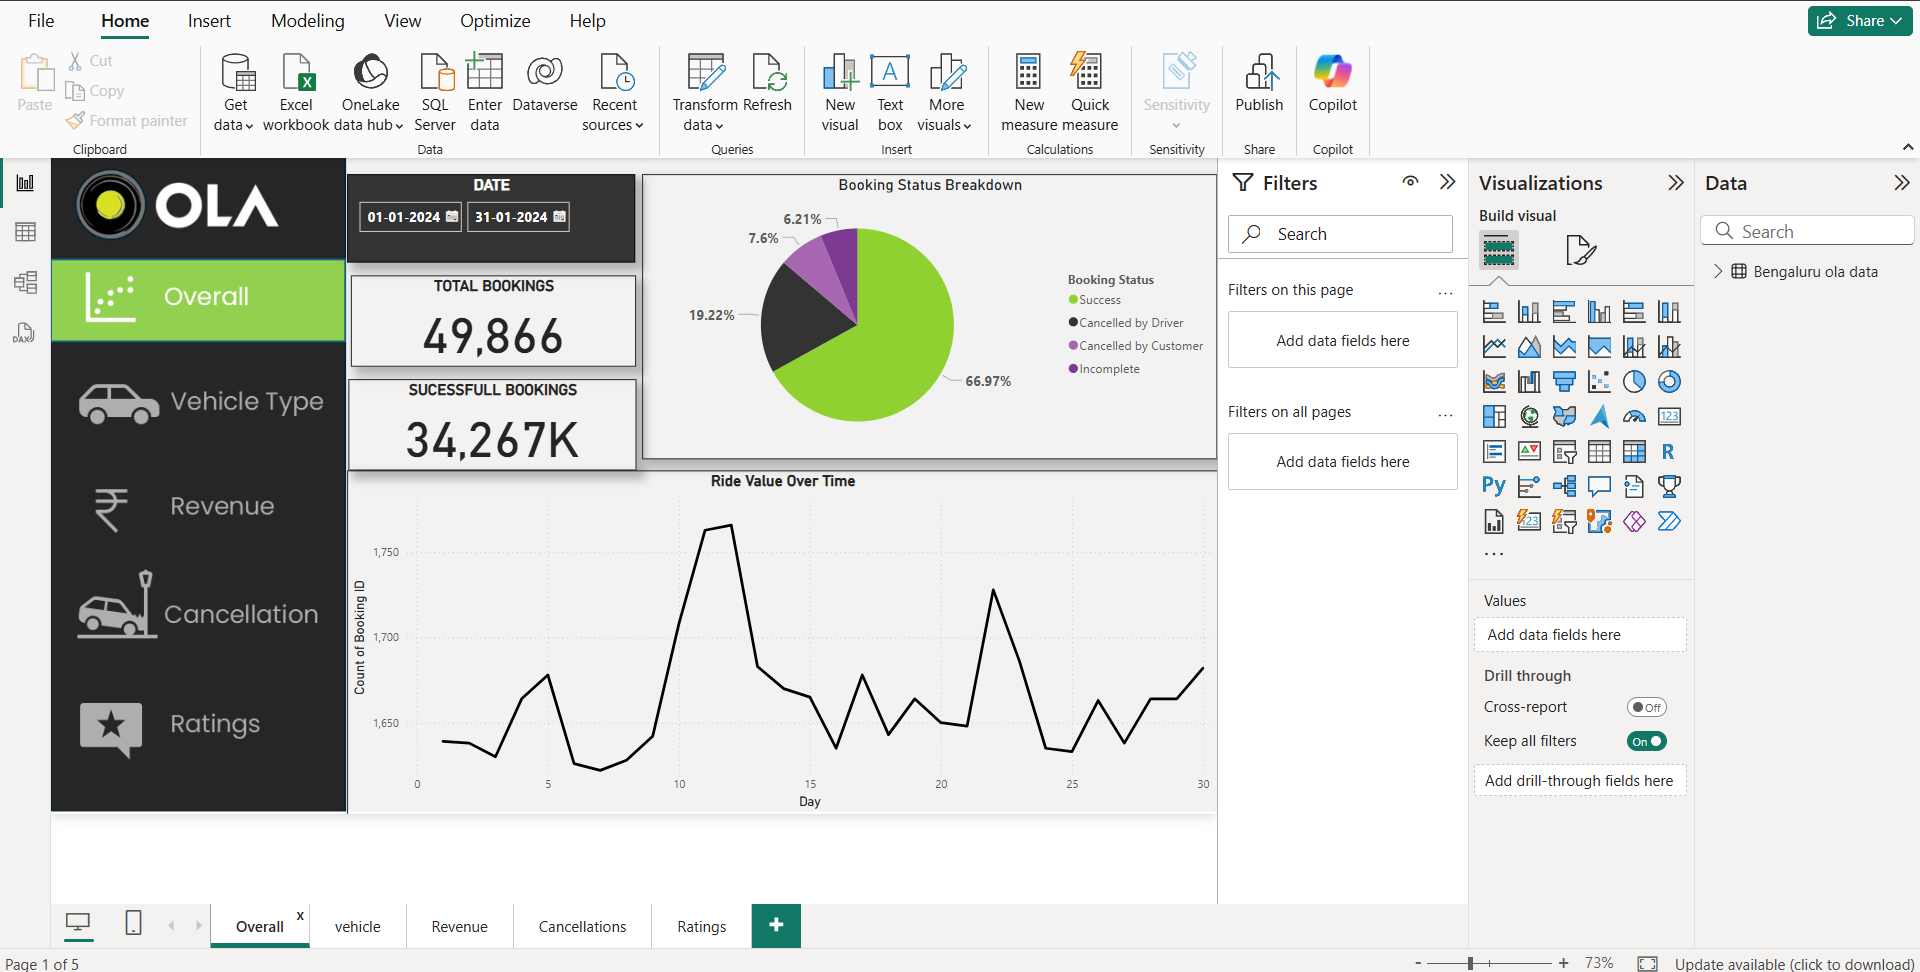

What the dashboard file says about the page in this screenshot:
{"tool":"powerbi","page":{"name":"Overall","canvas":[1280,720],"ordinal":0},"visuals":[{"type":"actionButton","box":[0,229.2,323.8,81],"z":0},{"type":"actionButton","box":[0,341.7,323.8,81],"z":1000},{"type":"actionButton","box":[0,450.1,323.8,81],"z":2000},{"type":"actionButton","box":[0,583.2,323.8,81],"z":3000},{"type":"pieChart","title":"Booking Status Breakdown","fields":{"Category":["Bengaluru ola data.Booking Status"],"Y":["CountNonNull(Bengaluru ola data.Booking Status)"]},"box":[649.1,17.9,631.2,312.6],"z":4000},{"type":"lineChart","title":"Ride Value Over Time","fields":{"Category":["Bengaluru ola data.Date.Variation.Date Hierarchy.Day"],"Y":["CountNonNull(Bengaluru ola data.Booking ID)"]},"box":[324.5,342.4,955.8,378.1],"z":5000},{"type":"card","title":"TOTAL BOOKINGS","fields":{"Values":["Count(Bengaluru ola data.Booking ID)"]},"box":[329,129.5,312.6,99.7],"z":6000},{"type":"card","title":"SUCESSFULL BOOKINGS","fields":{"Values":["Sum(Bengaluru ola data.Booking Value)"]},"box":[326,242.7,315.6,99.7],"z":7000},{"type":"slicer","title":"DATE","fields":{"Values":["Bengaluru ola data.Date"]},"box":[324.5,17.9,315.6,96.8],"z":8000}]}

Visuals, with their boxes on the page's 1280x720 design canvas (x1, y1, x2, y2). These are canvas units, not pixel positions in the 1920x972 screenshot, which may show the page scaled, cropped or inside an application window:
actionButton: 0,229,324,310
actionButton: 0,342,324,423
actionButton: 0,450,324,531
actionButton: 0,583,324,664
"Booking Status Breakdown" pieChart: 649,18,1280,330
"Ride Value Over Time" lineChart: 324,342,1280,720
"TOTAL BOOKINGS" card: 329,130,642,229
"SUCESSFULL BOOKINGS" card: 326,243,642,342
"DATE" slicer: 324,18,640,115
